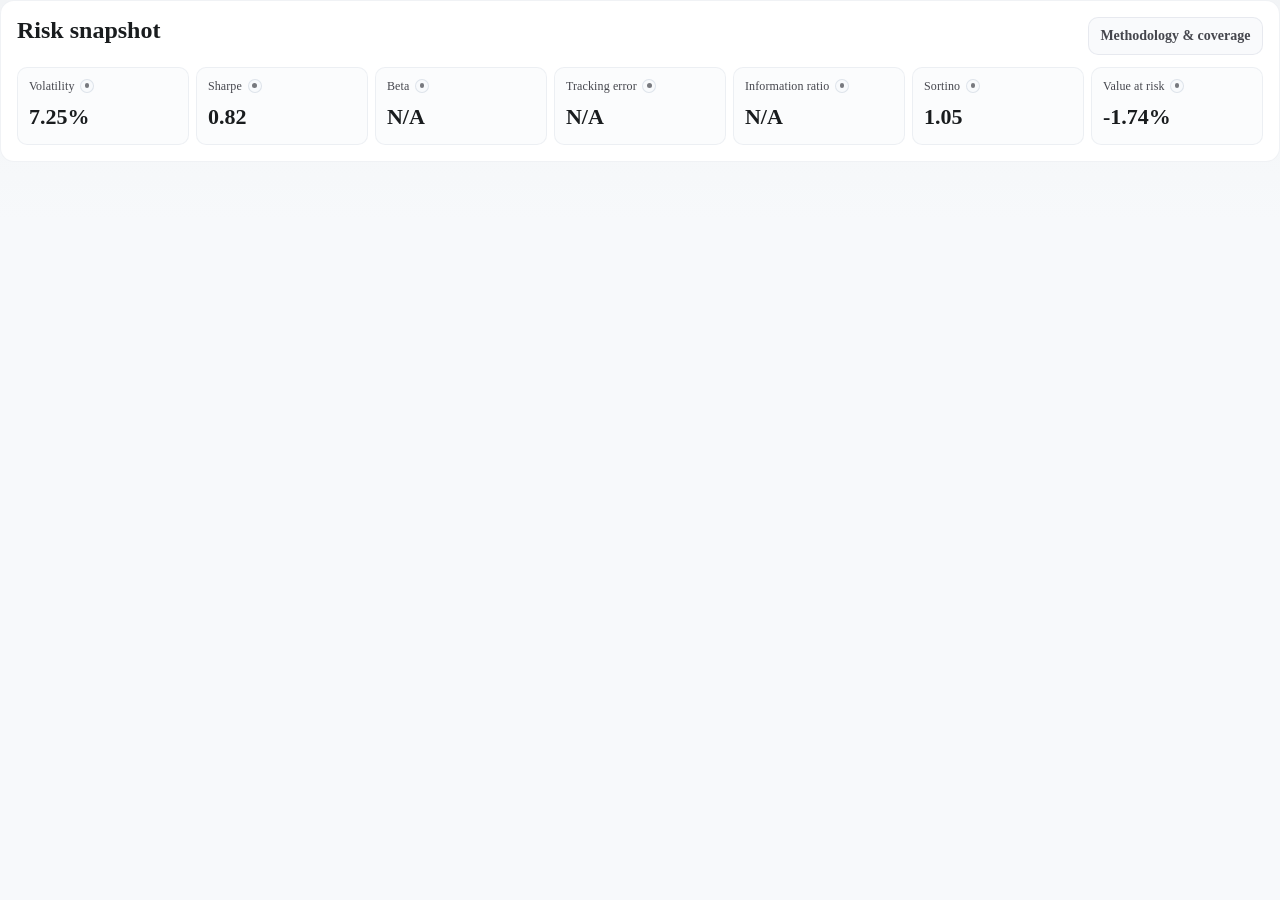
RiskSnapshotPanel › qualifies benchmark-relative interpretation when benchmark context is unavailable
Click the button with aria-label "Risk snapshot methodology and coverage" at (1175, 36), box [1088,17,1263,55]
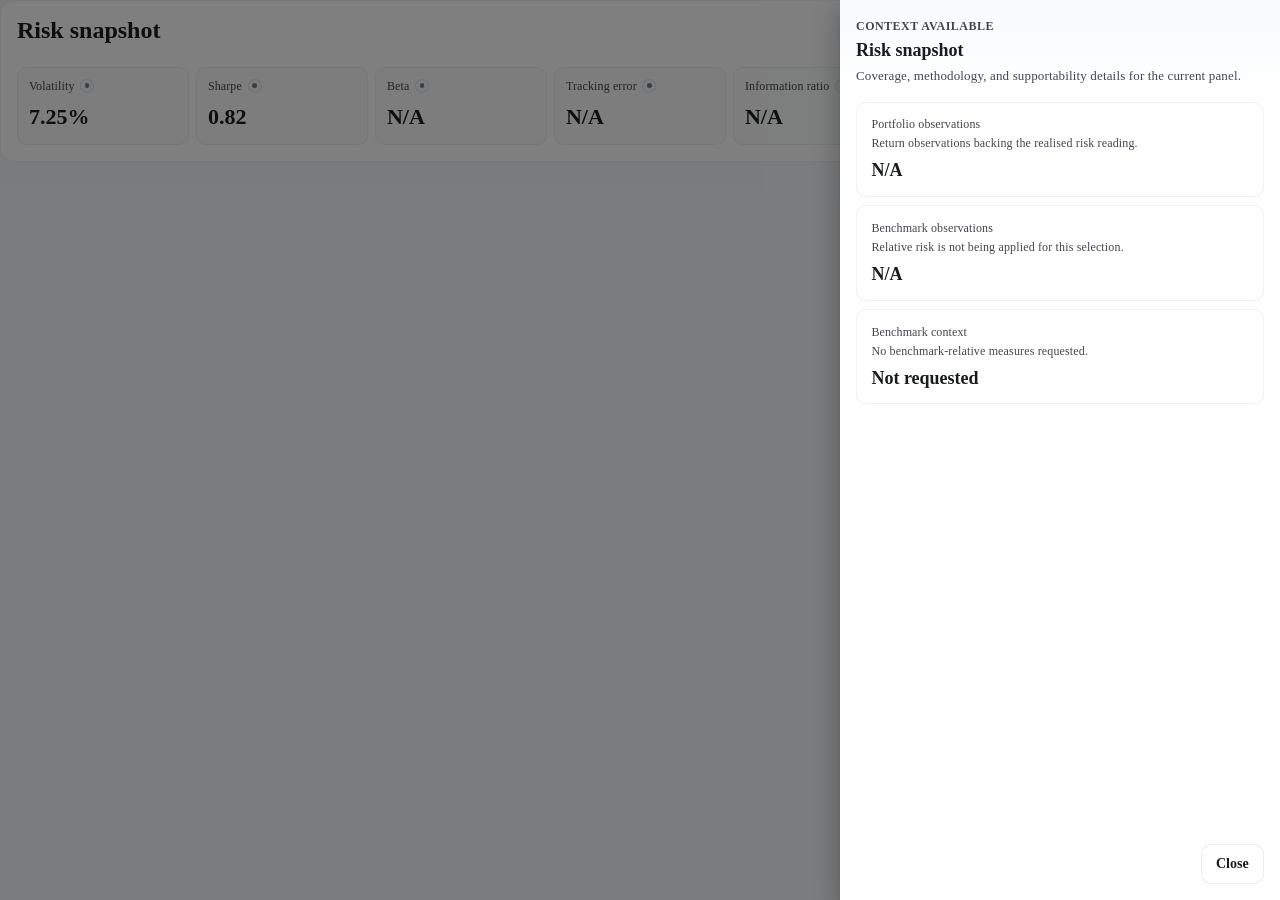
Now the dialog named "Risk snapshot methodology and coverage" shows "Relative risk is not being applied for this selection.", box [871,240,1124,254]
